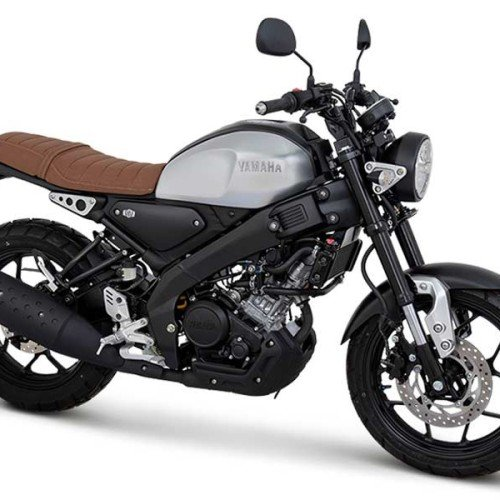motor: (1, 78, 500, 474)
